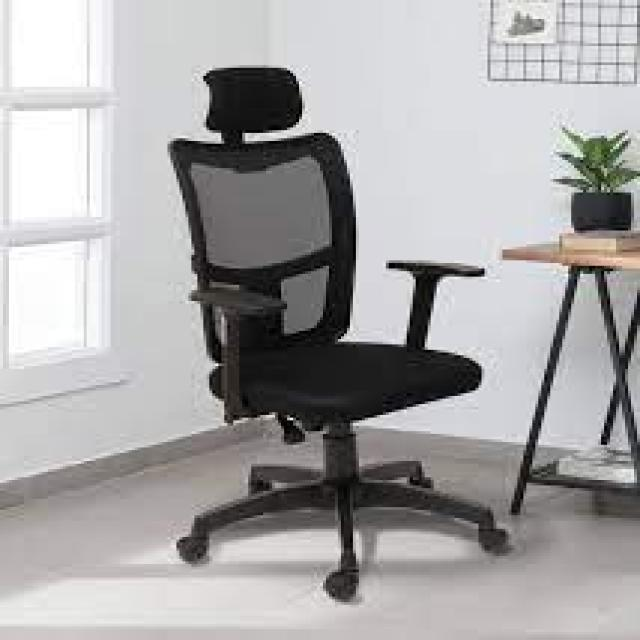chair: (78, 37, 533, 624)
